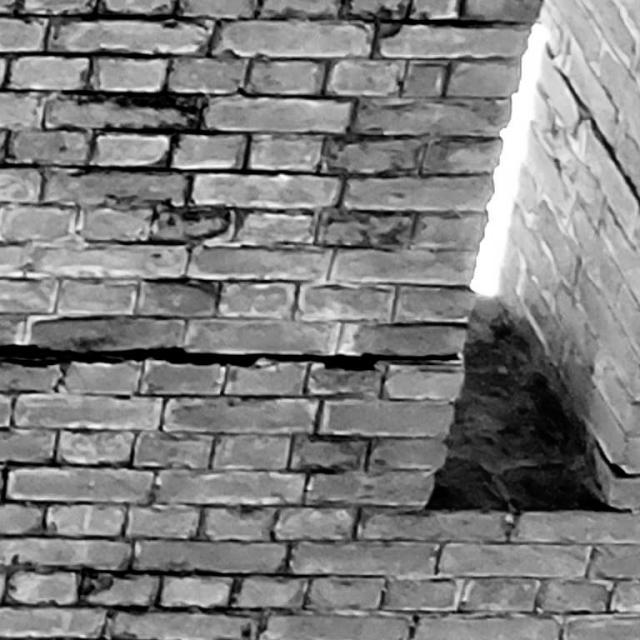crack: (545, 40, 640, 202), (1, 343, 462, 371), (596, 440, 640, 479)
